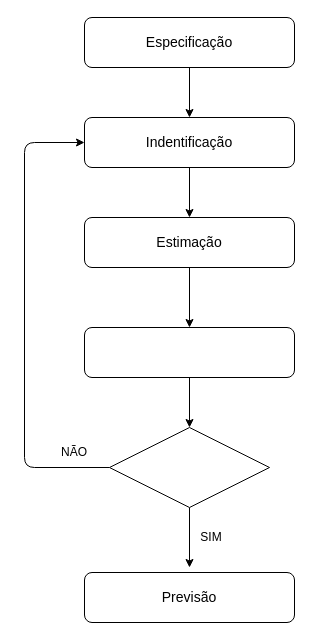
This 312x640 diagram has some shape labels left out. The shapes that lost their labels are listed below. From the top down, each one's centre as x and y in pixels, then its label:
(x=189, y=352): Verificação ou Diagnóstico
(x=189, y=467): O modelo está adequado?
